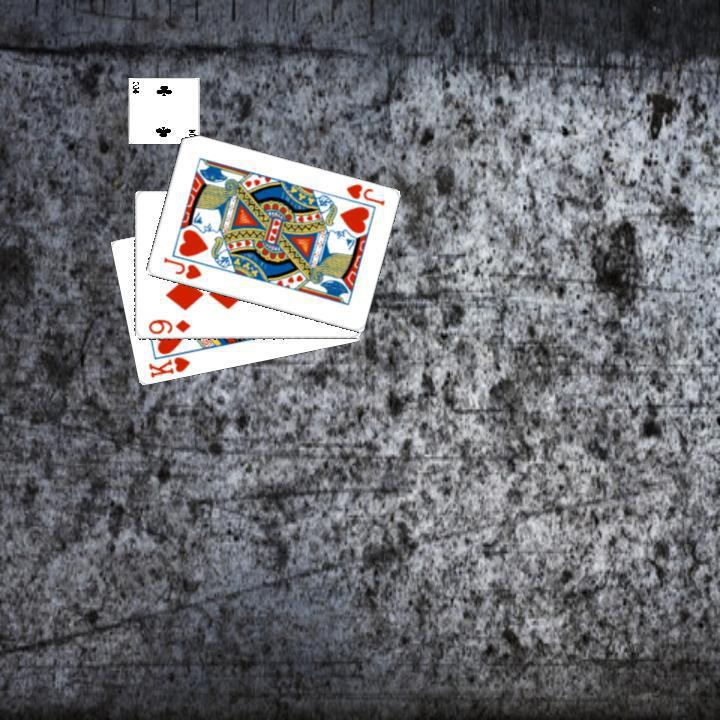9: (144, 316, 192, 335)
J: (159, 253, 203, 282), (341, 180, 386, 208)
K: (144, 353, 192, 380)
